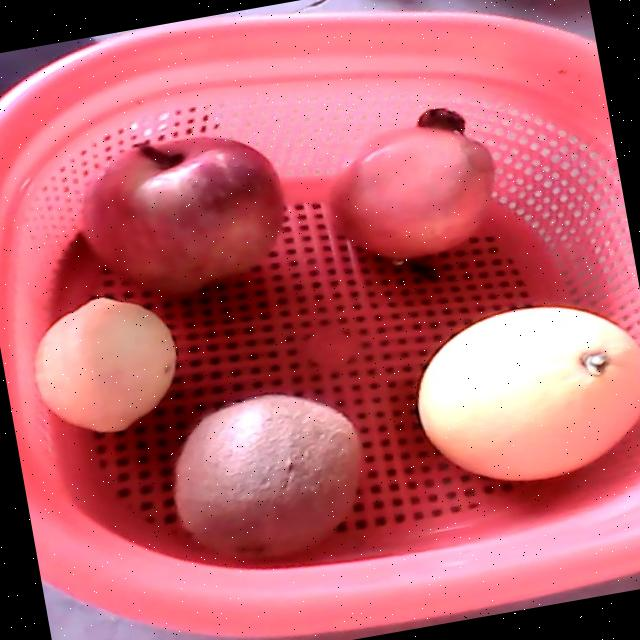apple: (81, 133, 288, 296)
kiwi: (173, 393, 362, 565)
lemon: (35, 296, 176, 431)
orange: (417, 305, 640, 480)
pomegranate: (326, 106, 494, 260)
